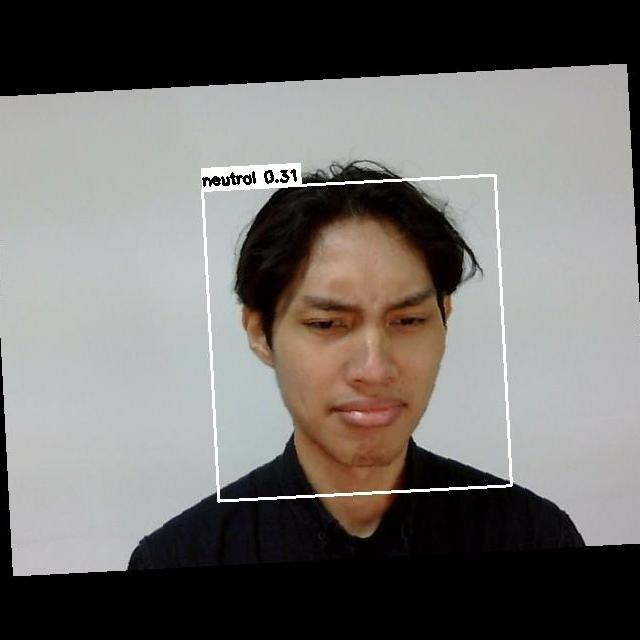Disgust: (266, 265, 449, 449)
